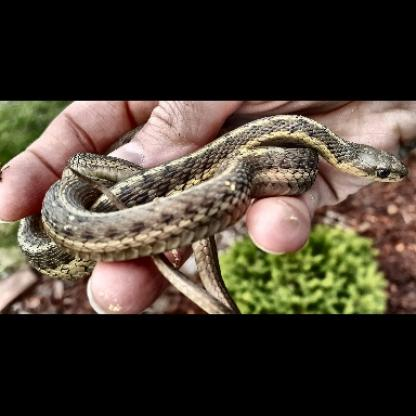Snake: (8, 113, 411, 284)
